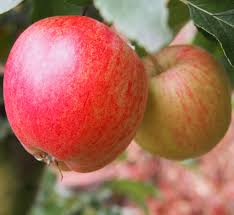apple: (3, 15, 148, 173)
obscured(0)_apple: (123, 45, 232, 161)
